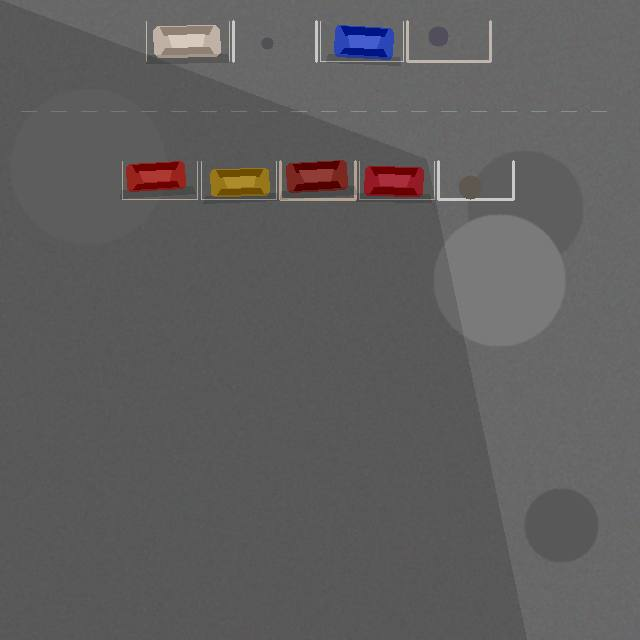space-empty: (233, 21, 316, 61), (407, 21, 490, 61), (438, 161, 513, 199)
space-occupied: (146, 21, 229, 61), (320, 21, 403, 61), (122, 161, 197, 199), (201, 161, 276, 199), (280, 161, 355, 199), (359, 161, 434, 199)
